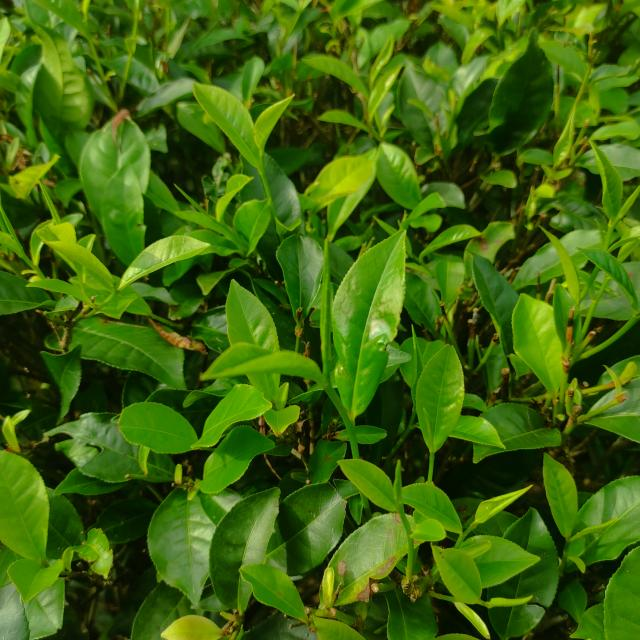unopened_leaf: (314, 232, 340, 386), (562, 500, 640, 550), (32, 174, 69, 228), (167, 176, 211, 213), (612, 177, 640, 219), (480, 592, 541, 611), (388, 453, 406, 511), (0, 208, 25, 242)
